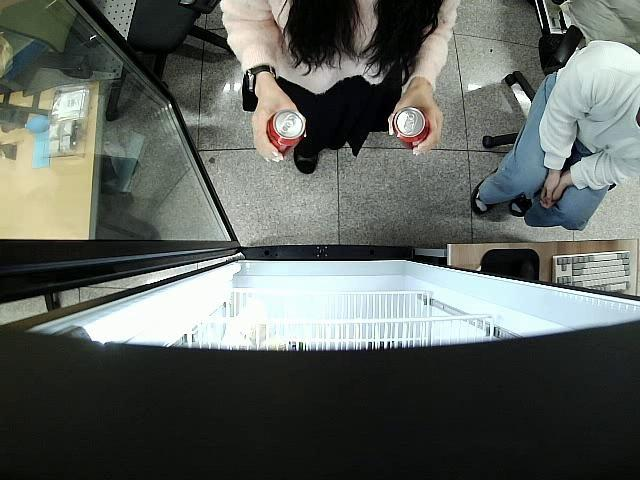11_cocaColaZero: (265, 109, 306, 156), (392, 106, 431, 148)
